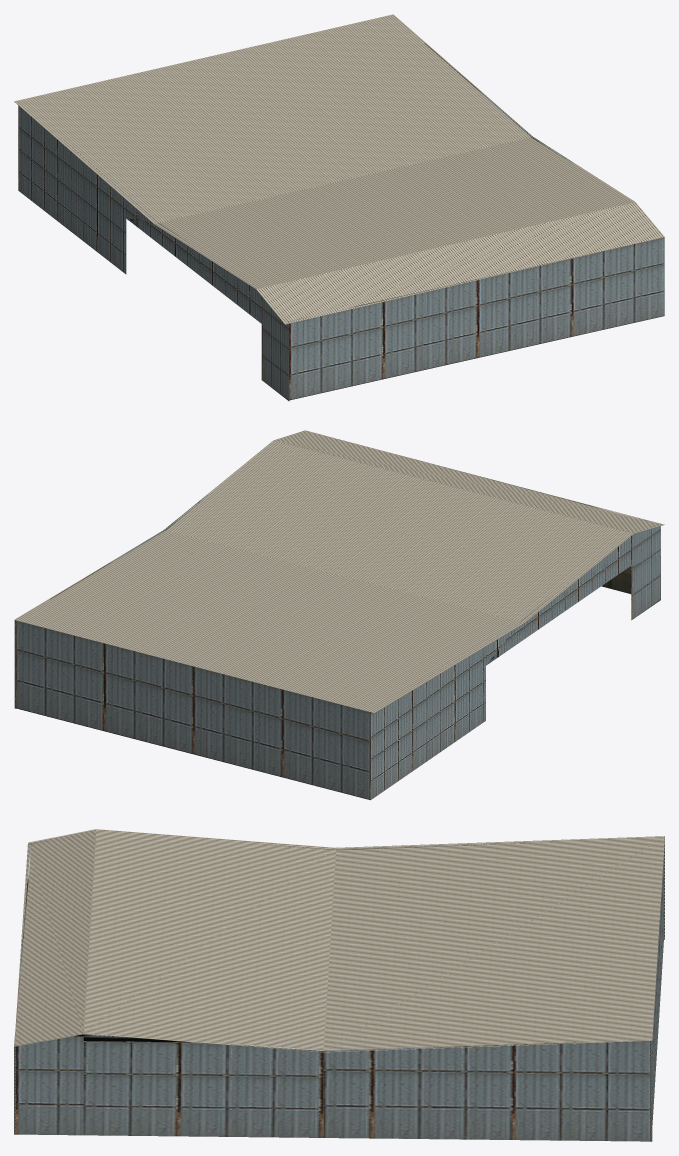
Rendered from fna3.gltf.
3 views of the same model, one above another, from view 1: azimuth 30°, elevation 25°; view 2: azimuth 150°, elevation 25°; view 3: azimuth 270°, elevation 25° (orthographic). The views are drawn at different scales.
Parts seen in each view (by area): view 1: node2, node1; view 2: node2, node1; view 3: node2, node1.
Part boxes in pixels (x1,y1,x2,y2): node2: (14, 14, 664, 324); node1: (15, 43, 664, 401); node2: (14, 430, 664, 713); node1: (14, 431, 662, 800); node2: (14, 829, 664, 1052); node1: (14, 839, 664, 1141).
Bounding box in the file's own units: 31.14 × 6.99 × 40.48.
